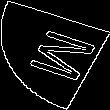M_SE: (14, 24, 96, 86)
